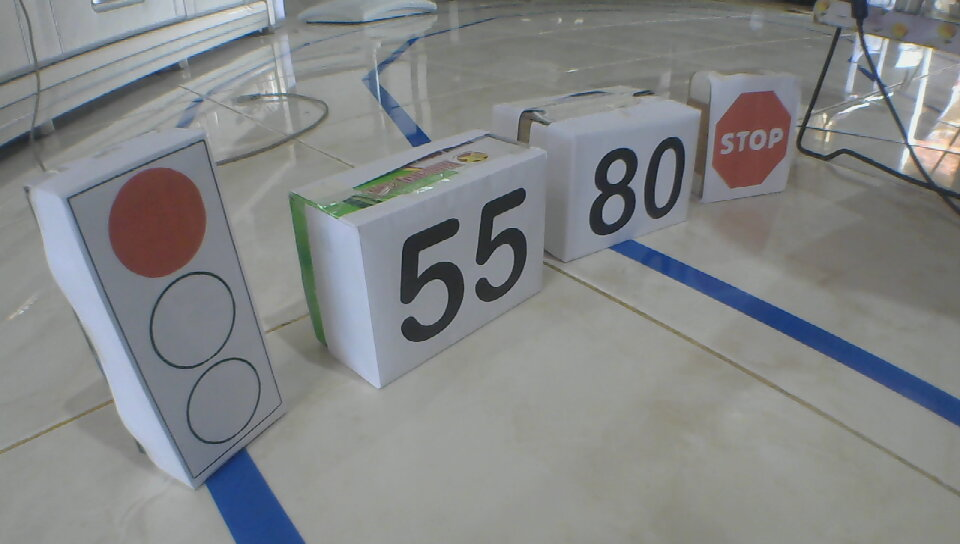Red Light: (110, 167, 261, 445)
Speed 55: (392, 186, 528, 347)
Speed 80: (587, 137, 687, 238)
Stop: (709, 90, 793, 192)
